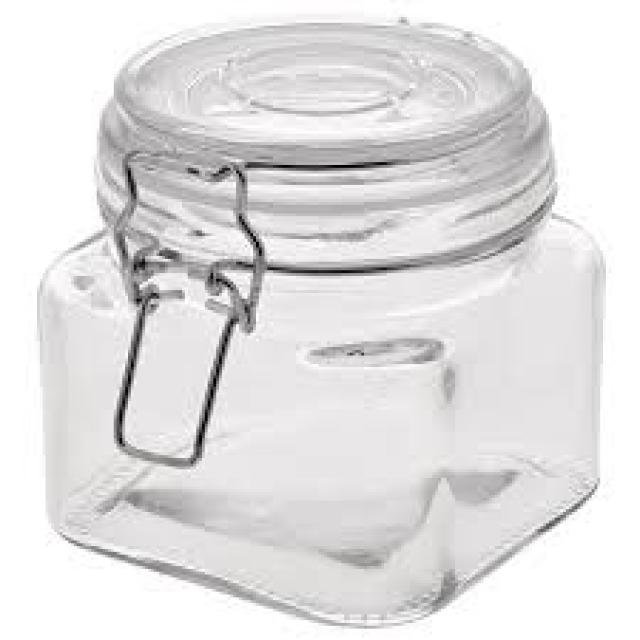Dry Waste: (36, 11, 611, 632)
